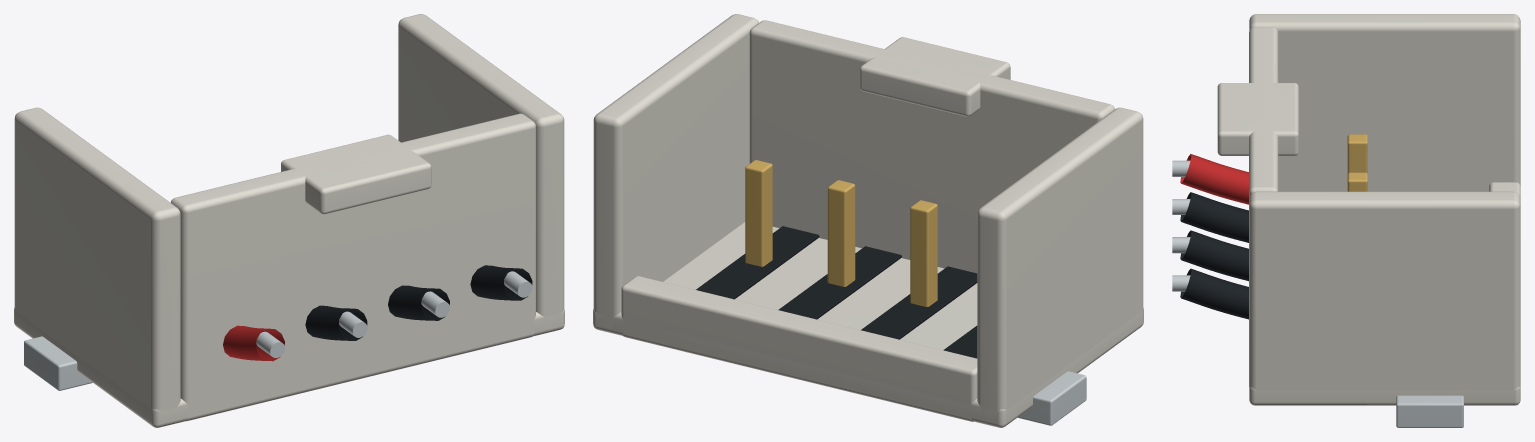
File: grove-tail.glb
3 views of the same model, side by side, from view 1: azimuth 30°, elevation 25°; view 2: azimuth 150°, elevation 25°; view 3: azimuth 270°, elevation 25° (orthographic). The views are drawn at different scales.
Visible parts, largest first — view 1: grove-tail / Ceramic, grove-tail / Black, grove-tail / Tin, grove-tail / Wire red; view 2: grove-tail / Ceramic, grove-tail / Black, grove-tail / Gold, grove-tail / Tin; view 3: grove-tail / Ceramic, grove-tail / Black, grove-tail / Tin, grove-tail / Wire red, grove-tail / Gold.
Boxes of the visible parts, x1,y1,x2,y2 form: grove-tail / Ceramic: (14,14,564,427); grove-tail / Black: (305,265,532,340); grove-tail / Tin: (24,271,532,390); grove-tail / Wire red: (223,325,284,361); grove-tail / Ceramic: (593,14,1143,427); grove-tail / Black: (696,226,977,358); grove-tail / Gold: (745,160,937,306); grove-tail / Tin: (1017,371,1086,425); grove-tail / Ceramic: (1217,14,1520,405); grove-tail / Black: (1180,192,1248,319); grove-tail / Tin: (1172,160,1463,427); grove-tail / Wire red: (1180,154,1248,204); grove-tail / Gold: (1347,134,1367,191).
Size of the model in its own units: 10.9 by 5.3 by 7.7.
